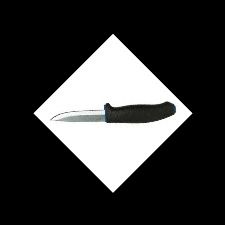k1: (49, 103, 115, 123)
